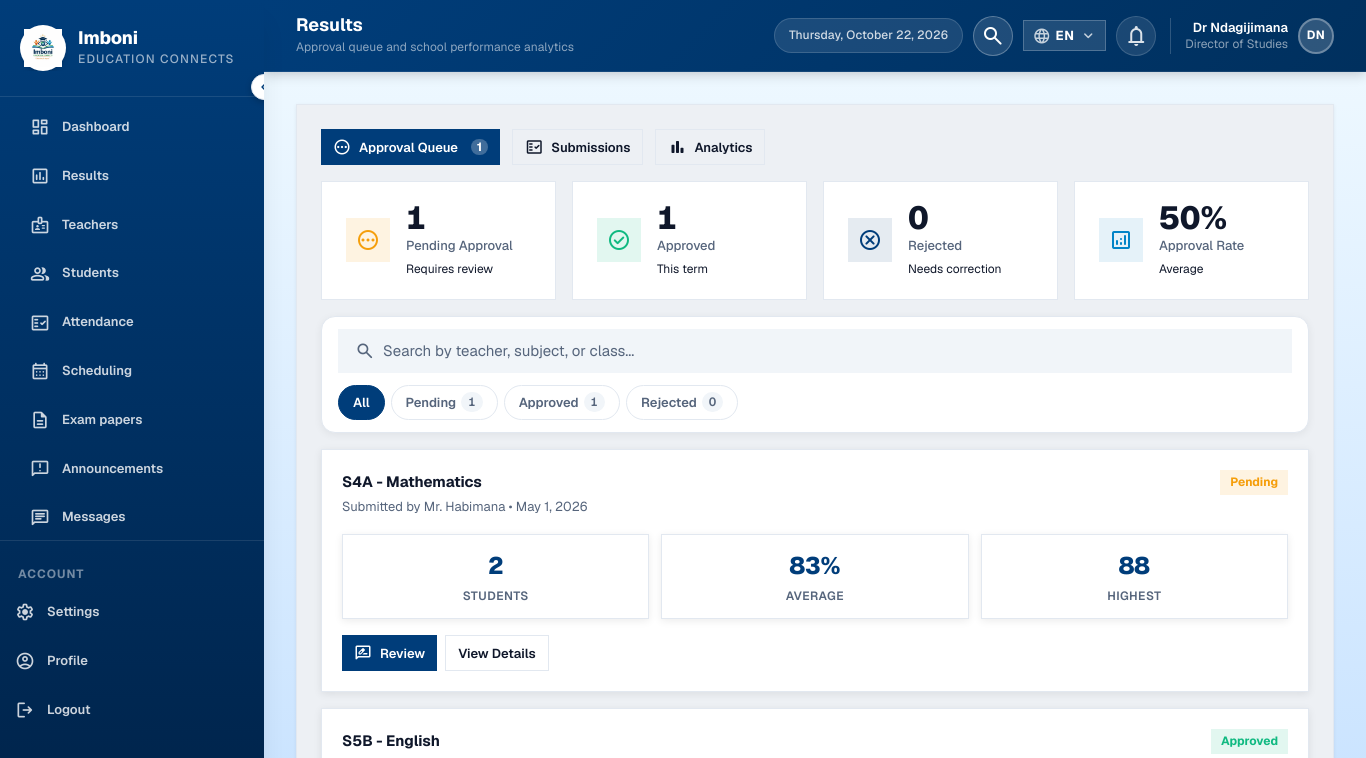
Test: DosResults › status filter tabs narrow visible cards
Expected: the text "S4A - Mathematics" is shown, [342, 472, 482, 491]
Click the button "Approved 1" at [562, 402], box [504, 385, 620, 420]
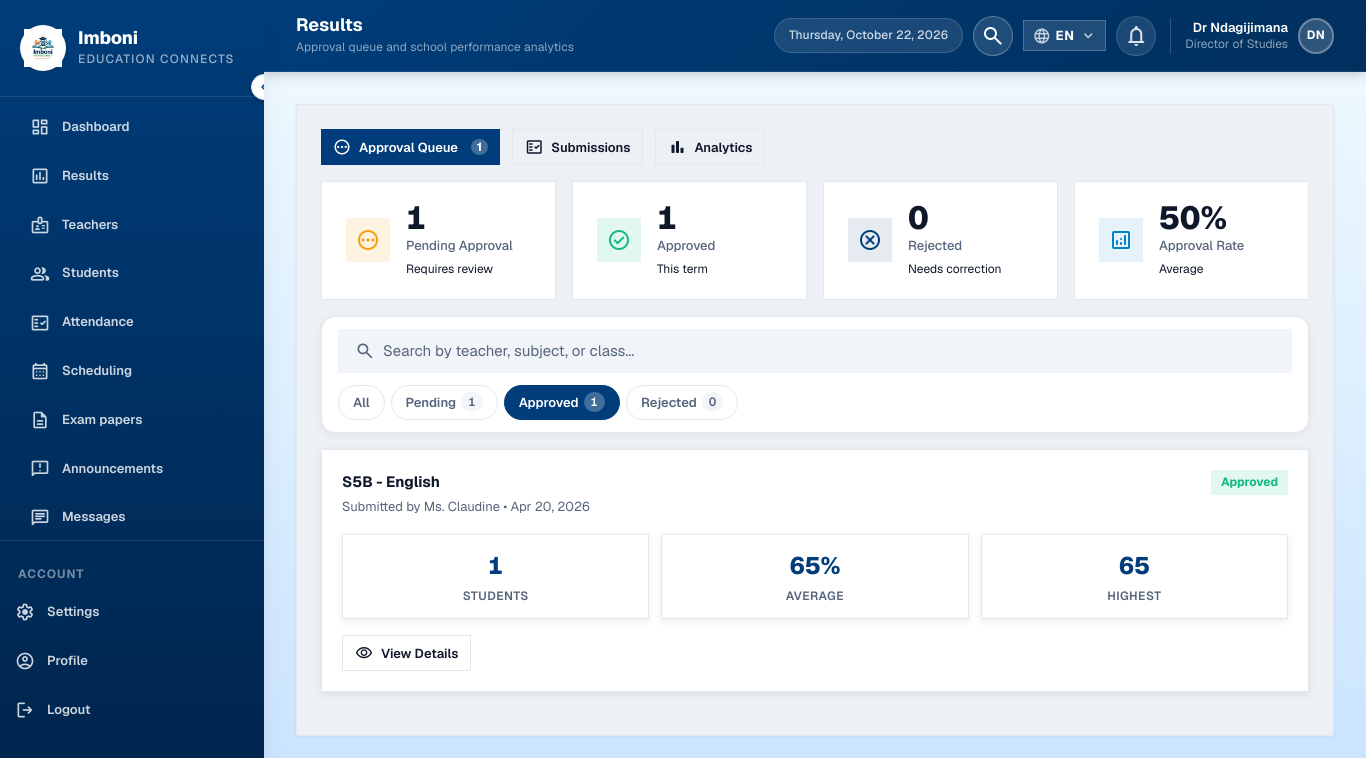
Expected: the text "S5B - English" is shown, [342, 472, 440, 491]
Result: the text "S4A - Mathematics" is gone
